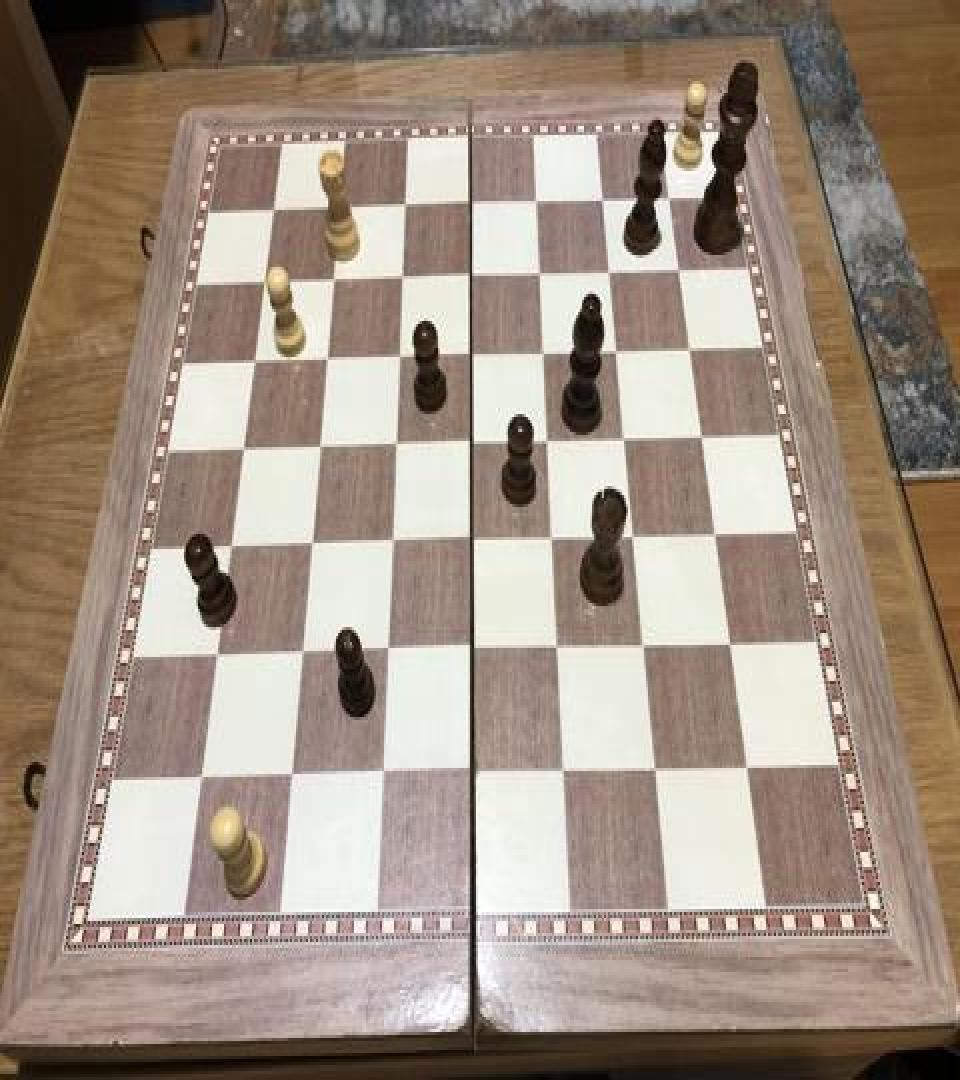xcorner: (721, 631, 745, 668), (291, 637, 315, 674), (738, 754, 762, 791), (661, 186, 685, 222), (594, 186, 618, 222), (461, 189, 485, 225), (394, 190, 418, 226), (328, 192, 352, 228), (261, 194, 285, 230), (671, 258, 695, 294), (531, 261, 555, 297), (461, 261, 485, 297), (391, 262, 415, 298), (322, 264, 346, 300), (252, 266, 276, 302), (682, 338, 706, 374), (608, 339, 632, 375), (535, 340, 559, 376), (461, 340, 485, 376), (388, 342, 412, 378), (242, 345, 266, 381), (694, 424, 718, 460), (616, 426, 640, 462), (539, 428, 563, 464), (462, 429, 486, 465), (308, 432, 332, 468), (231, 434, 255, 470), (707, 522, 731, 558), (625, 524, 649, 560), (543, 525, 567, 561), (462, 526, 486, 562), (381, 528, 405, 564), (300, 530, 324, 566), (219, 531, 243, 567), (635, 633, 659, 669), (548, 634, 572, 670), (462, 636, 486, 672), (376, 636, 400, 672), (205, 639, 229, 675), (646, 756, 670, 792), (554, 756, 578, 792), (463, 758, 487, 794), (371, 759, 395, 795), (280, 760, 304, 796), (190, 760, 214, 796), (528, 188, 552, 223), (601, 260, 625, 295), (315, 344, 339, 379), (385, 431, 409, 466)
